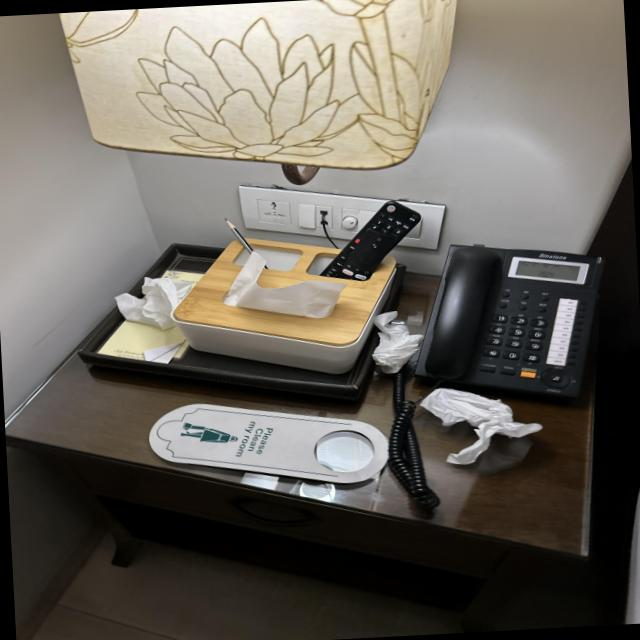mess: (8, 172, 640, 602)
